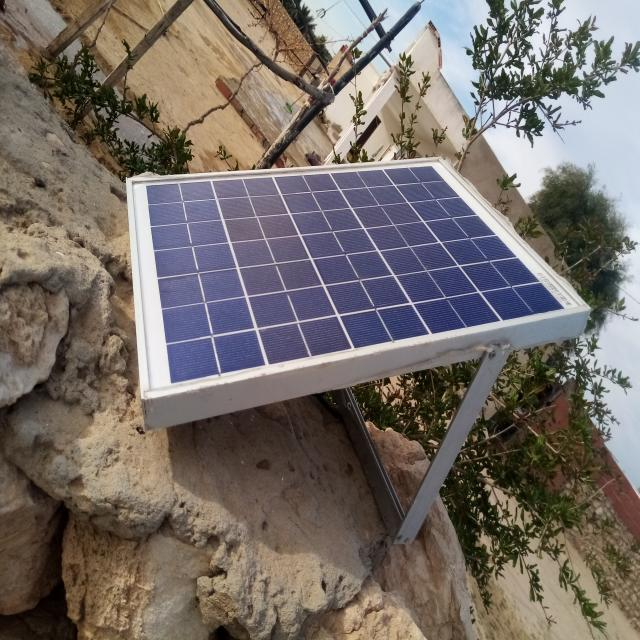no faulty: (134, 162, 585, 402)
